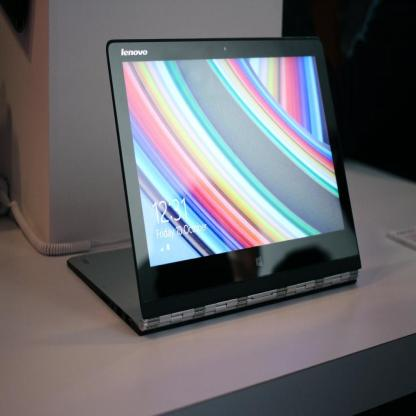board: (67, 35, 362, 331)
